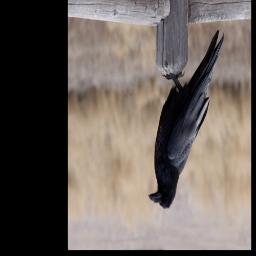Crow: (148, 26, 226, 211)
